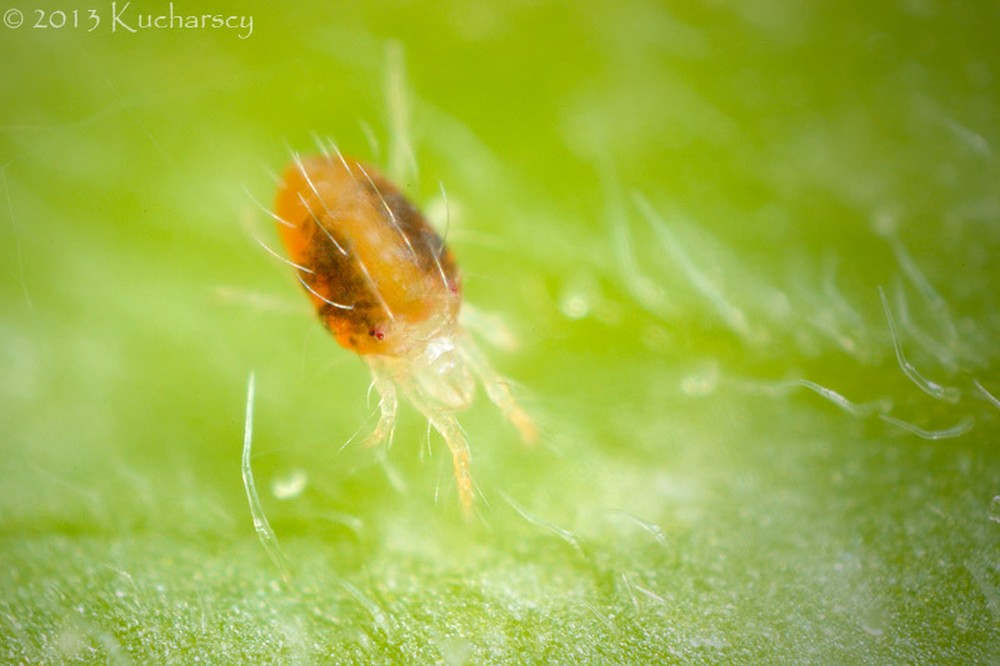Aracnido Rojo: (234, 117, 578, 533)
